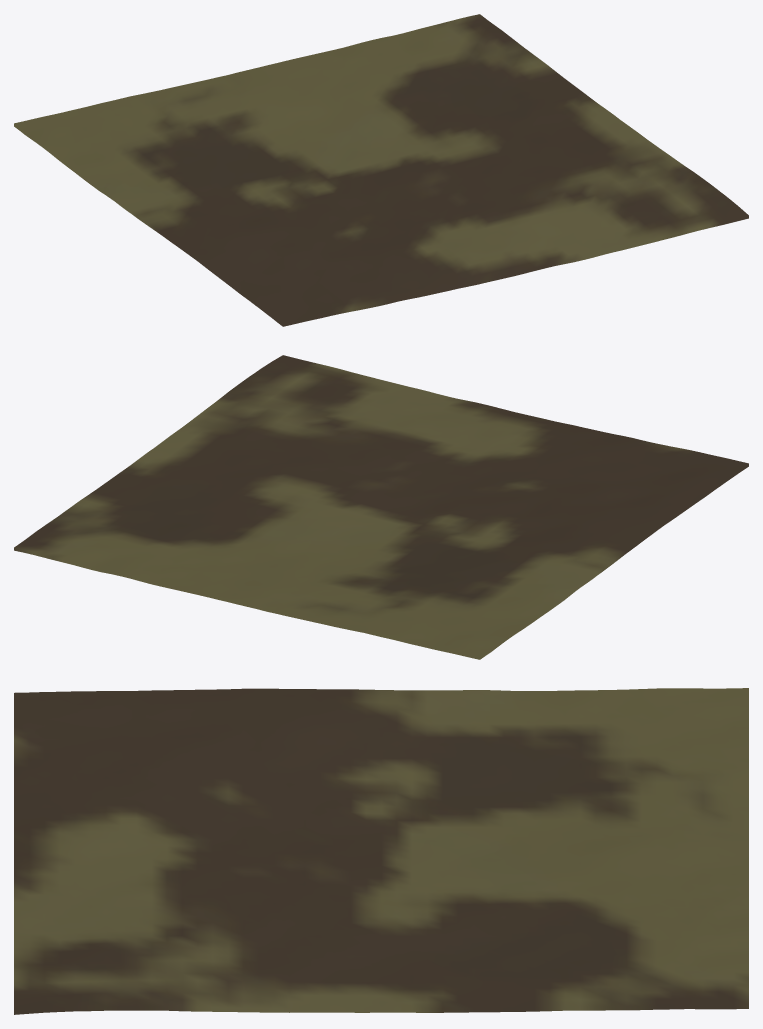
The model's file is land_m_11_01.glb.
3 renders of one model, top to bottom at view 1: azimuth 30°, elevation 25°; view 2: azimuth 150°, elevation 25°; view 3: azimuth 270°, elevation 25°, orthographic. The views are drawn at different scales.
Parts seen in each view (by area): view 1: land_m_11_01; view 2: land_m_11_01; view 3: land_m_11_01.
Boxes of the visible parts, <box> form: land_m_11_01: <box>14,14,748,326</box>; land_m_11_01: <box>14,355,748,659</box>; land_m_11_01: <box>14,688,748,1014</box>.
Size of the model in its own units: 960 by 25.72 by 960.
